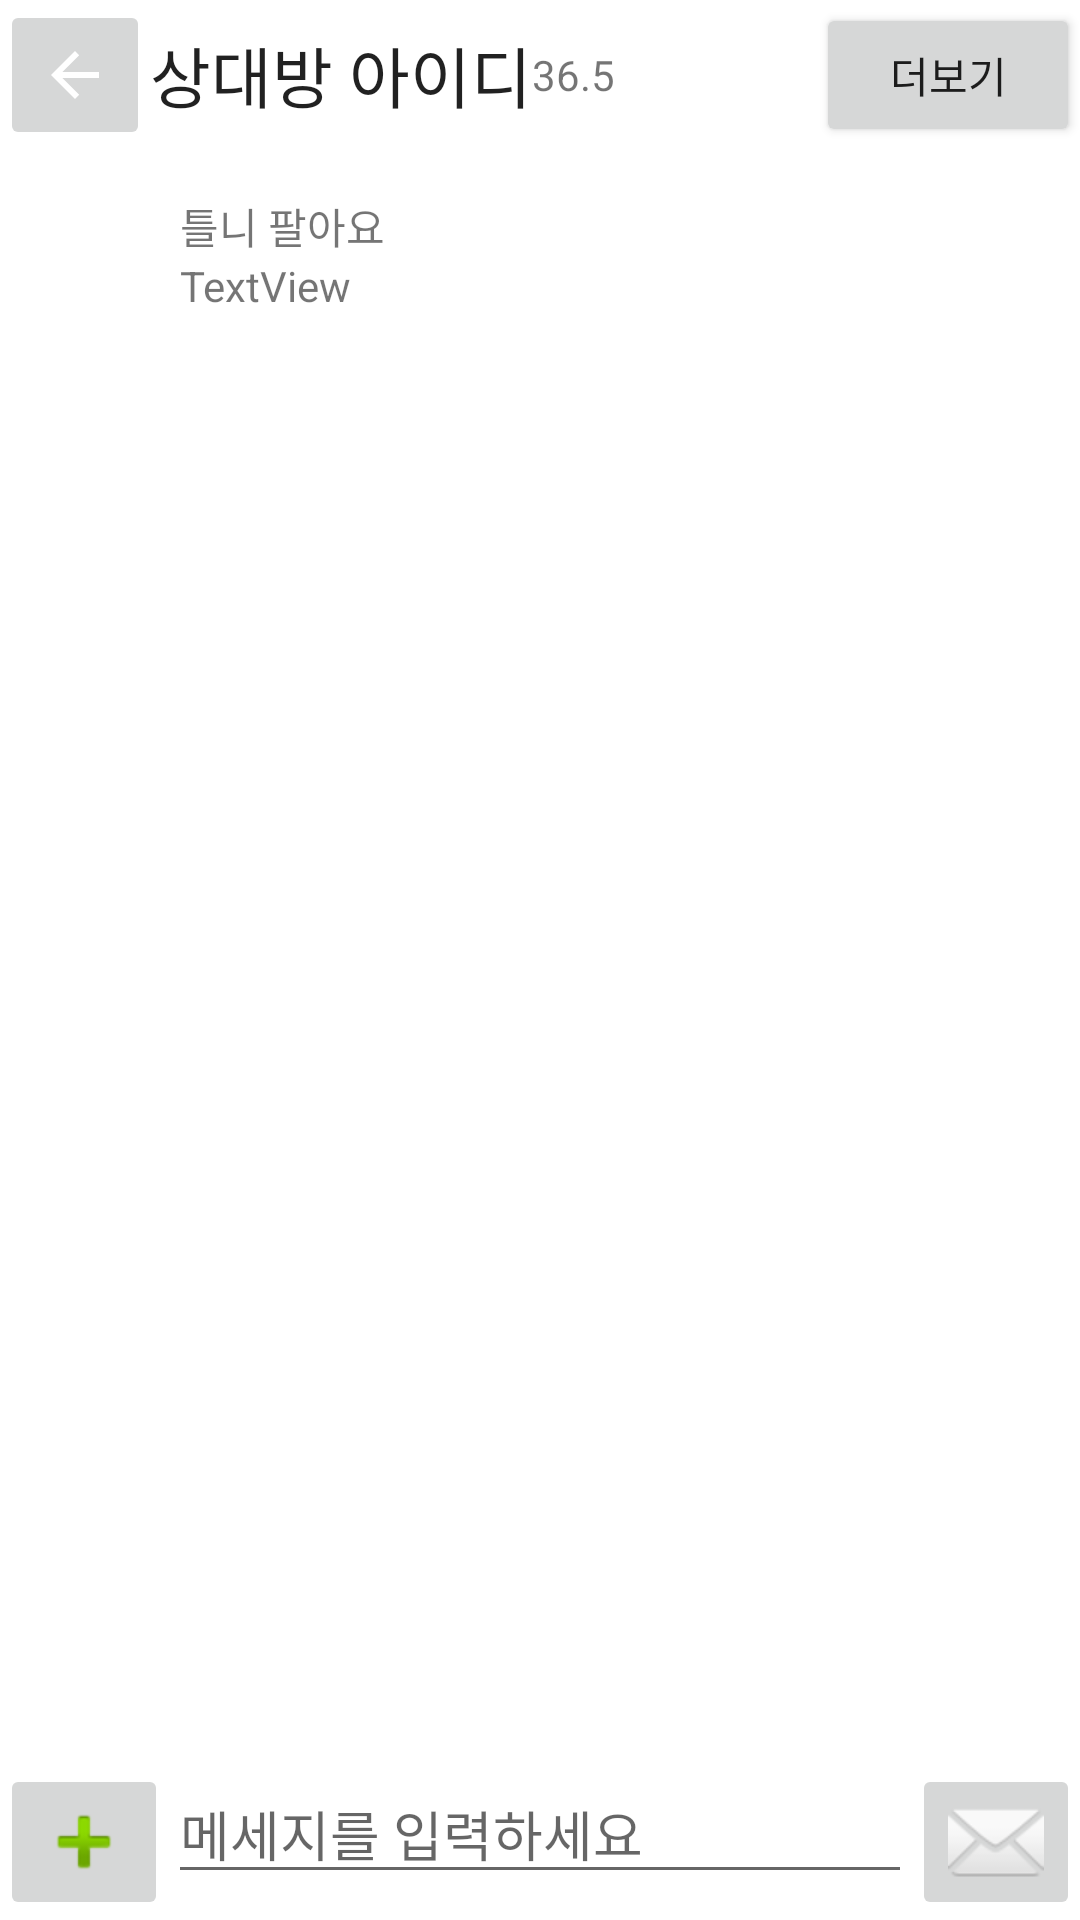

Locate icon controls on the screen. Image size 1080x1920, boxes as [x1=x1, y1=y1, x2=x2, y2=y2].
add: [x1=12, y1=1782, x2=156, y2=1902]
email: [x1=924, y1=1782, x2=1068, y2=1902]
